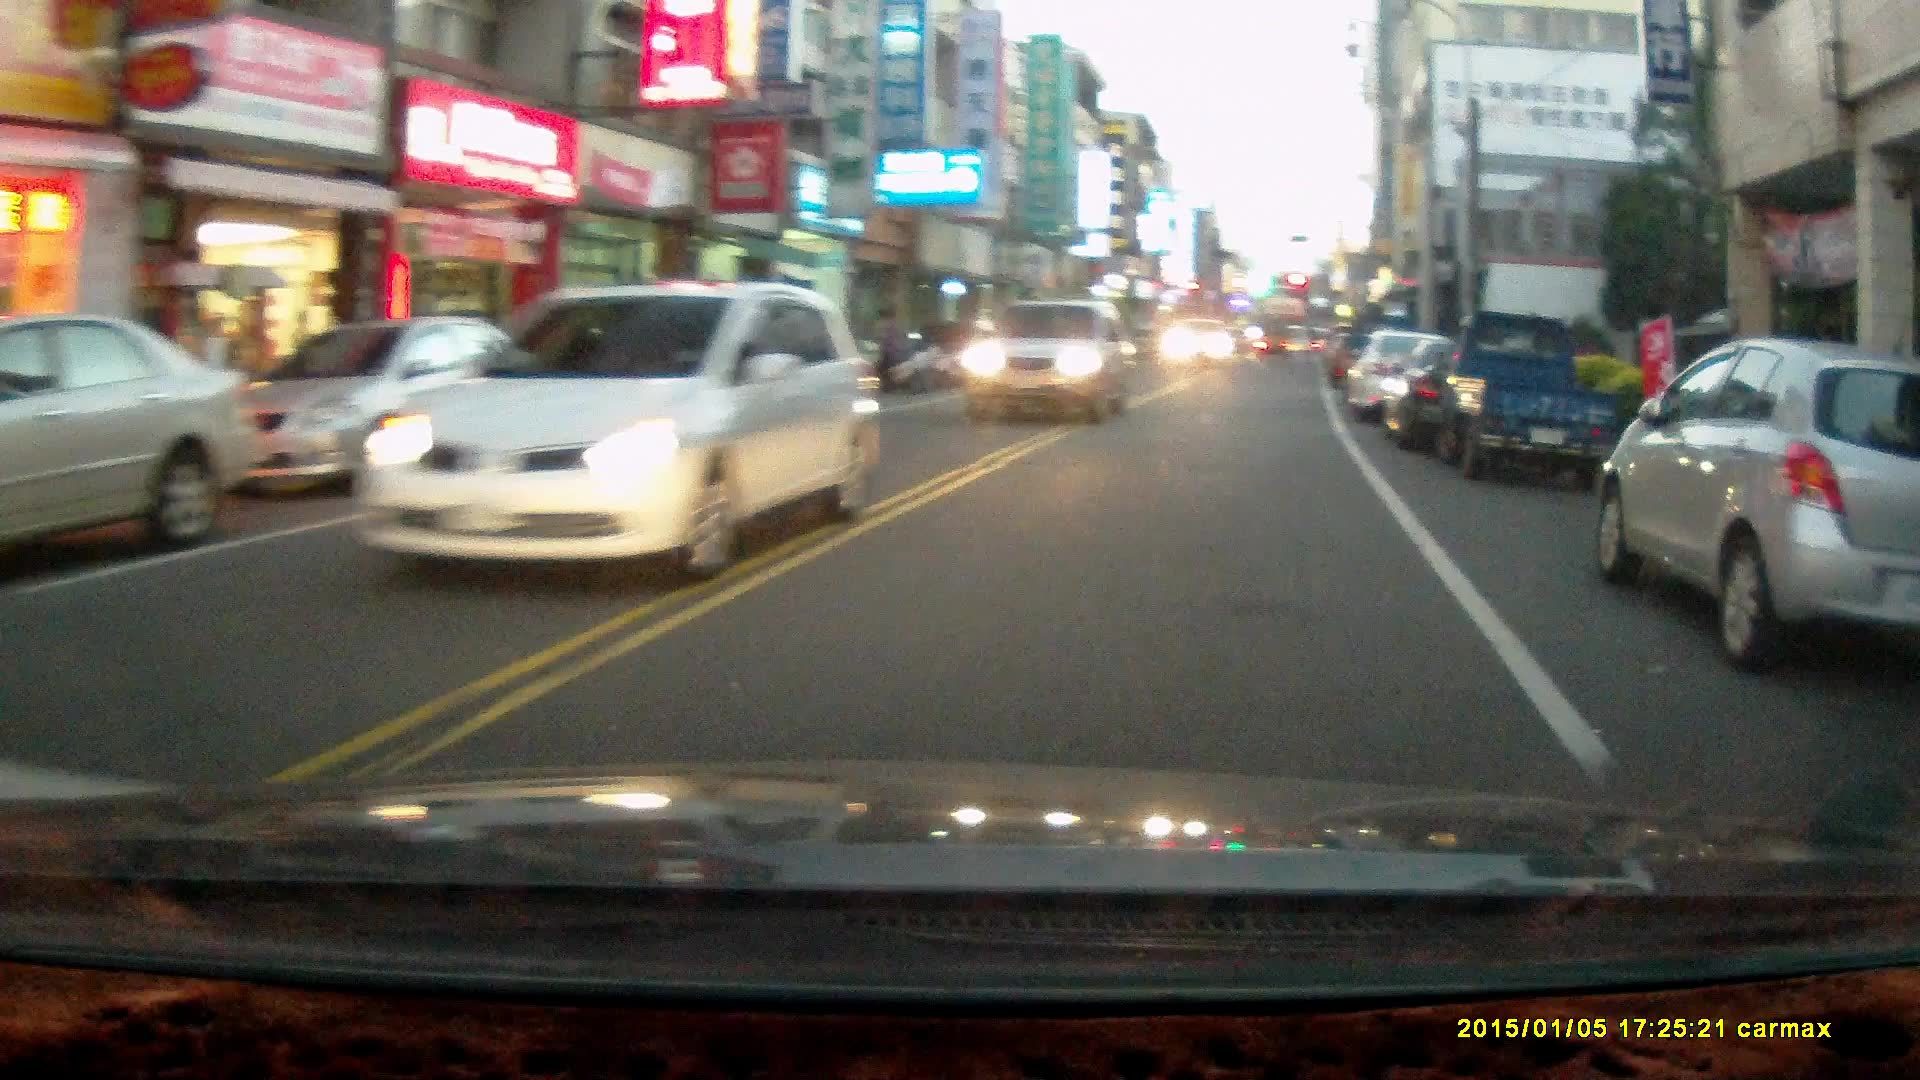vehicle: (351, 277, 880, 582), (1601, 332, 1920, 675), (1, 309, 266, 580), (199, 311, 550, 498), (1437, 309, 1630, 483), (957, 293, 1145, 422), (1342, 324, 1505, 427), (1166, 313, 1242, 367)
